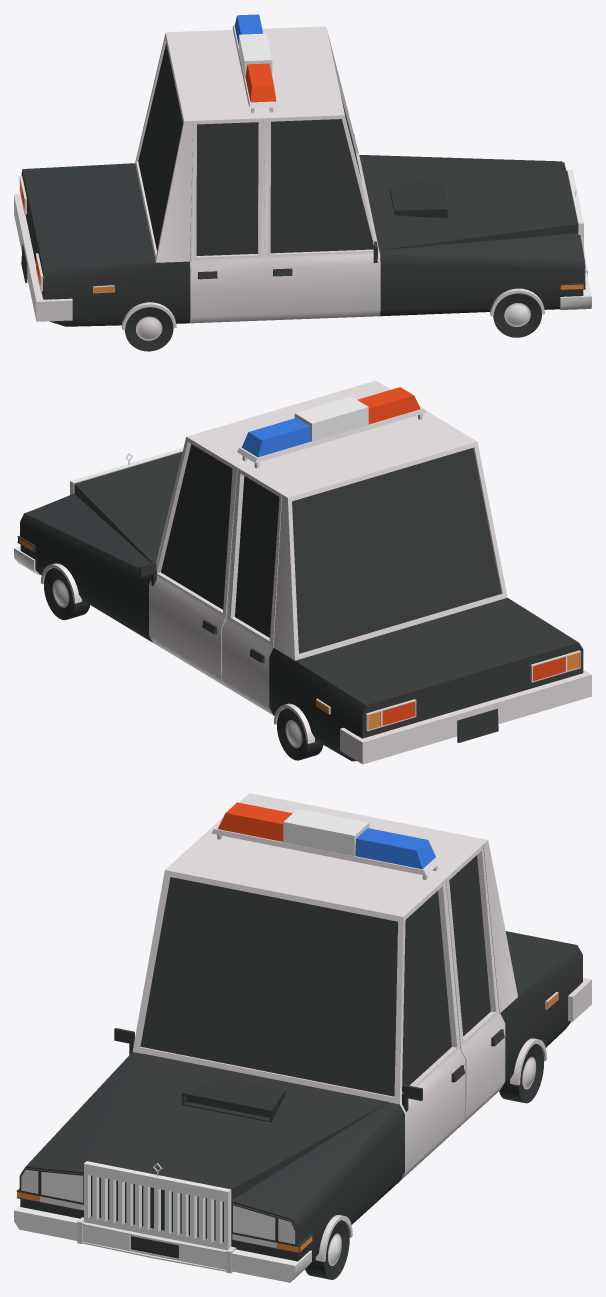
Rendered from police_car.gltf.
The picture shows the model from 3 angles, top to bottom: view 1: azimuth 30°, elevation 25°; view 2: azimuth 150°, elevation 25°; view 3: azimuth 270°, elevation 25°; orthographic projection. The views are drawn at different scales.
Visible parts, largest first — view 1: Cube_0, Cube.001_1, Cube.002_2; view 2: Cube_0, Cube.002_2; view 3: Cube_0, Cube.002_2, Cube.001_1.
Part boxes in pixels (x1,y1,x2,y2): Cube_0: [14, 24, 591, 351]; Cube.001_1: [390, 175, 447, 218]; Cube.002_2: [234, 14, 276, 102]; Cube_0: [14, 380, 591, 764]; Cube.002_2: [241, 387, 420, 457]; Cube_0: [14, 793, 591, 1282]; Cube.002_2: [218, 802, 435, 869]; Cube.001_1: [182, 1077, 285, 1122].
Size of the model in its own units: 3.1 by 1.38 by 2.35.
1 material, 1 textured.
